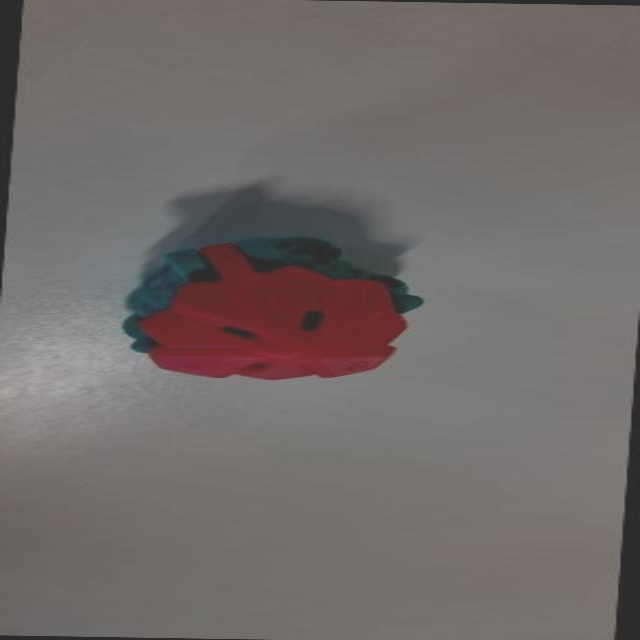House: (104, 224, 432, 394)
